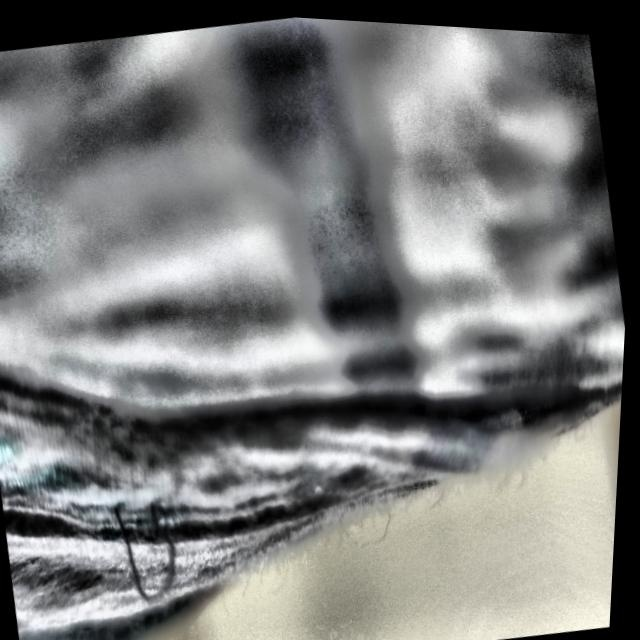Stitch: (56, 458, 232, 639)
